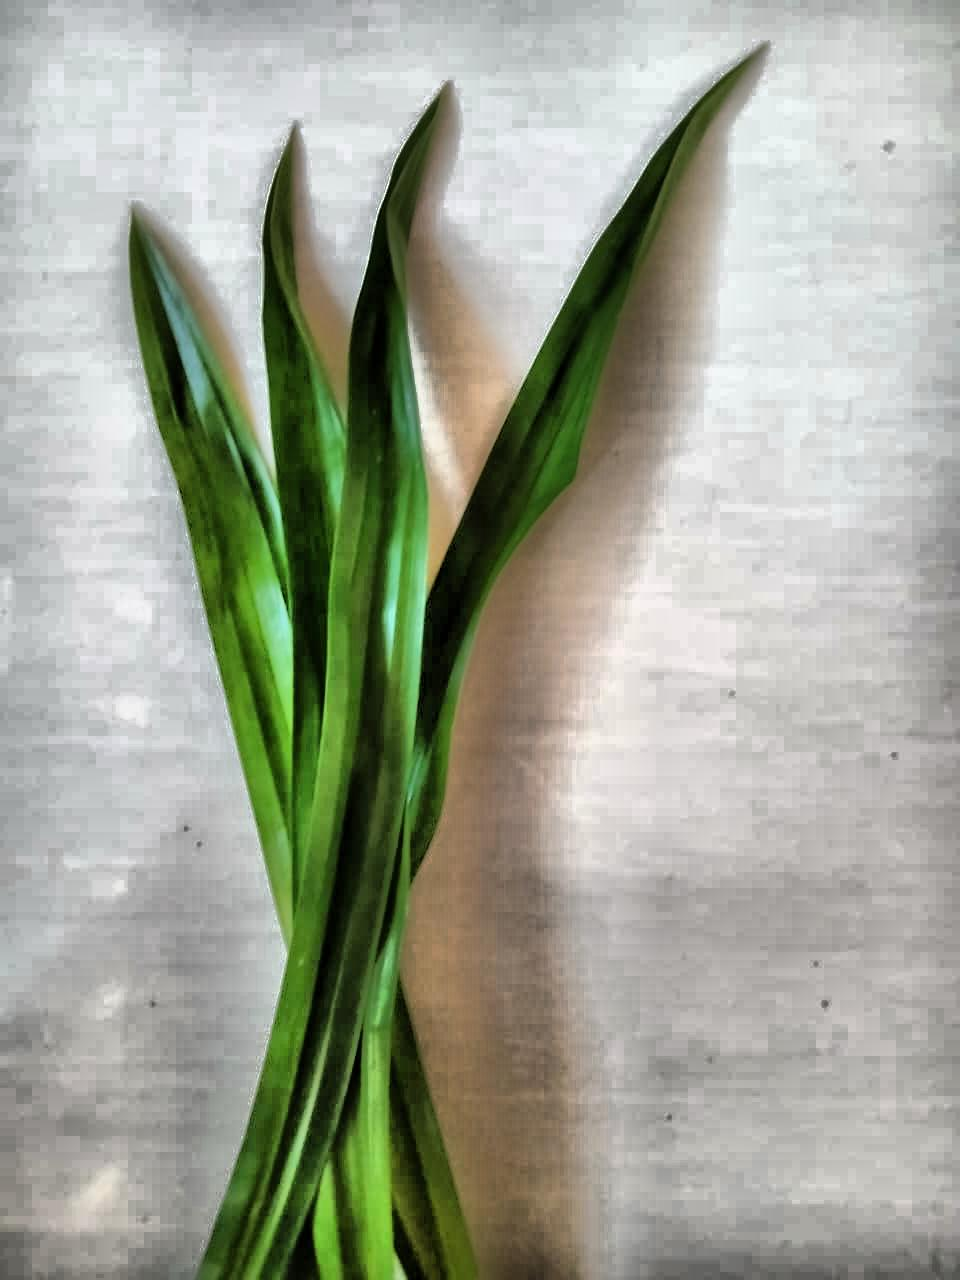daun pandan: (130, 55, 753, 1279)
